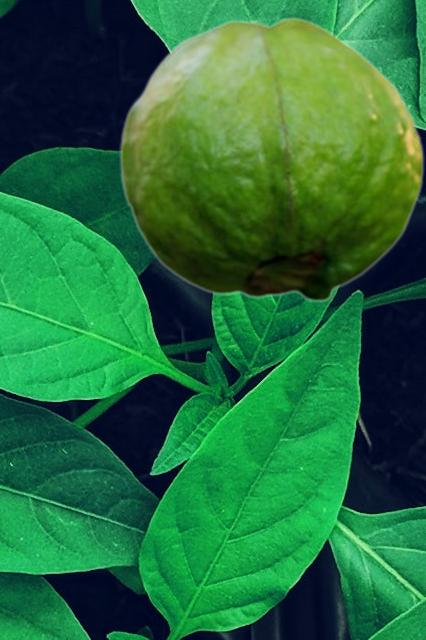guava: (119, 16, 423, 302)
